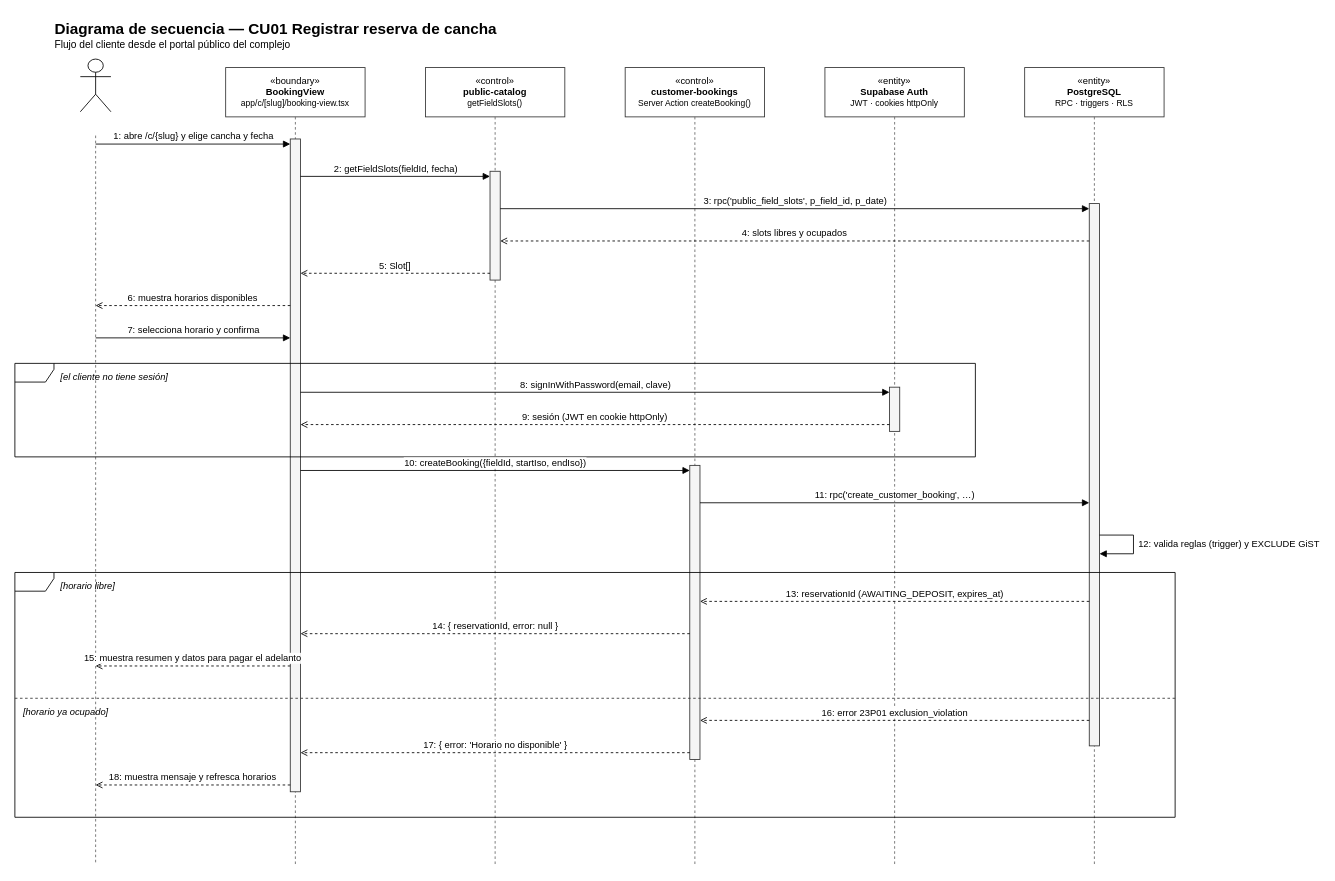
Image size: 1335x881. Some labels were removed from this diagram. The box of each missing label's shape, as (x1, y1, x2, y2) in pixels:
alt: (14, 572, 1175, 817)
Cliente: (79, 58, 111, 112)
opt: (14, 363, 975, 457)
